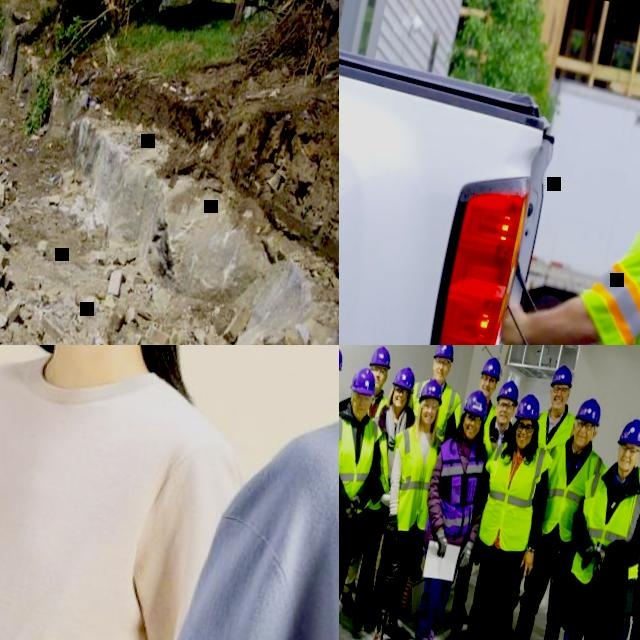Hardhat: (573, 395, 604, 426), (514, 391, 545, 422), (349, 364, 379, 396), (462, 387, 491, 417), (418, 376, 446, 407), (392, 363, 420, 392), (617, 414, 640, 449), (496, 377, 522, 406), (550, 362, 576, 390), (368, 345, 394, 370), (480, 355, 504, 380), (432, 345, 458, 361), (339, 345, 347, 369)
NO-Mask: (616, 453, 636, 472), (571, 429, 593, 446), (513, 430, 532, 449), (549, 393, 567, 412), (461, 422, 479, 440), (431, 366, 450, 382), (352, 402, 369, 419), (495, 409, 512, 426), (420, 410, 436, 426), (391, 395, 407, 410), (478, 382, 494, 397), (372, 375, 386, 390)
NO-Safety Vest: (0, 351, 207, 640)
Person: (0, 345, 317, 640), (447, 45, 640, 345), (158, 345, 339, 640), (441, 384, 566, 640), (500, 387, 623, 640), (392, 384, 507, 640), (368, 345, 474, 610), (353, 372, 456, 640), (494, 361, 586, 640), (532, 407, 640, 640), (437, 373, 529, 640), (339, 361, 425, 640), (431, 354, 508, 622), (339, 345, 403, 616), (339, 361, 401, 640), (596, 404, 640, 640), (339, 345, 360, 603)
Safety Vest: (562, 183, 640, 345), (470, 433, 556, 556), (566, 457, 640, 592), (528, 434, 613, 549), (377, 422, 443, 537), (422, 433, 490, 540), (339, 408, 386, 521), (354, 411, 404, 514), (404, 375, 464, 440), (533, 407, 579, 455), (450, 393, 498, 437), (480, 414, 516, 460), (627, 461, 640, 519), (366, 394, 388, 421)
vehicle: (339, 40, 640, 345)
